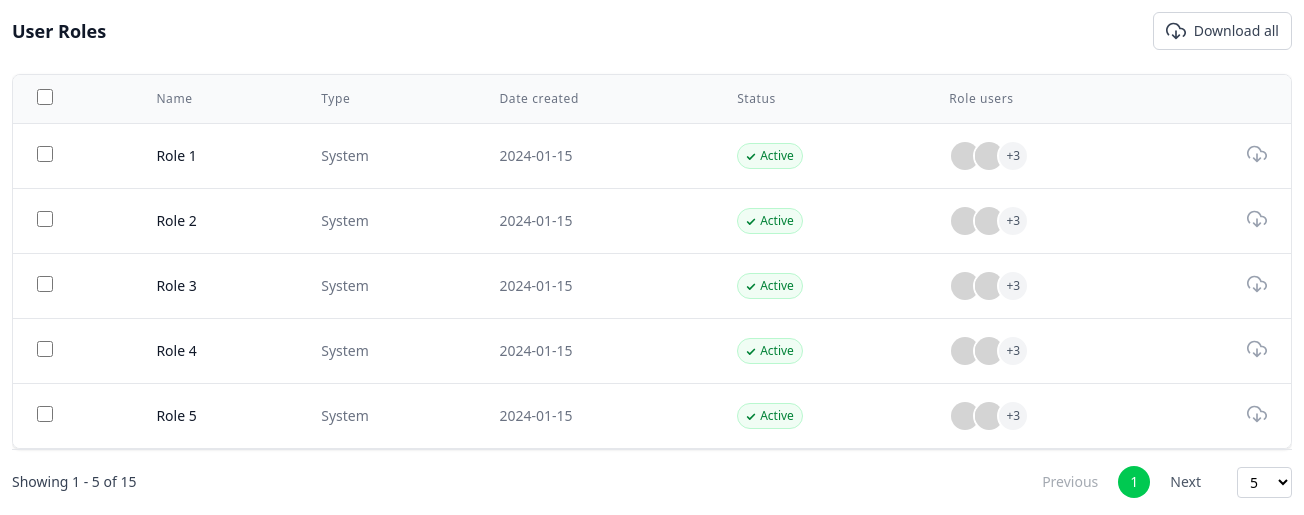
Test: UserRoleTable › Pagination › handles pagination navigation
Expected: the text "Role 1" is shown, [132,124,297,188]
Click the button "Next".
click(1186, 482)  # box [1158,468,1213,496]
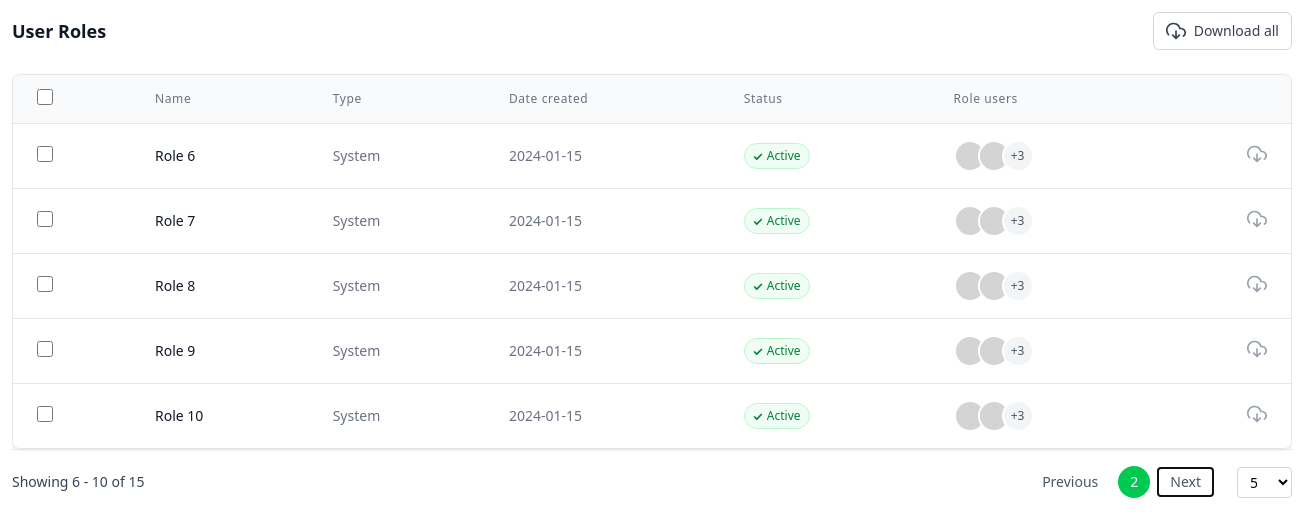
Now the text "Role 6" is shown, box [131,124,309,188]
Click the button "Previous".
click(1070, 482)  # box [1030,468,1110,496]
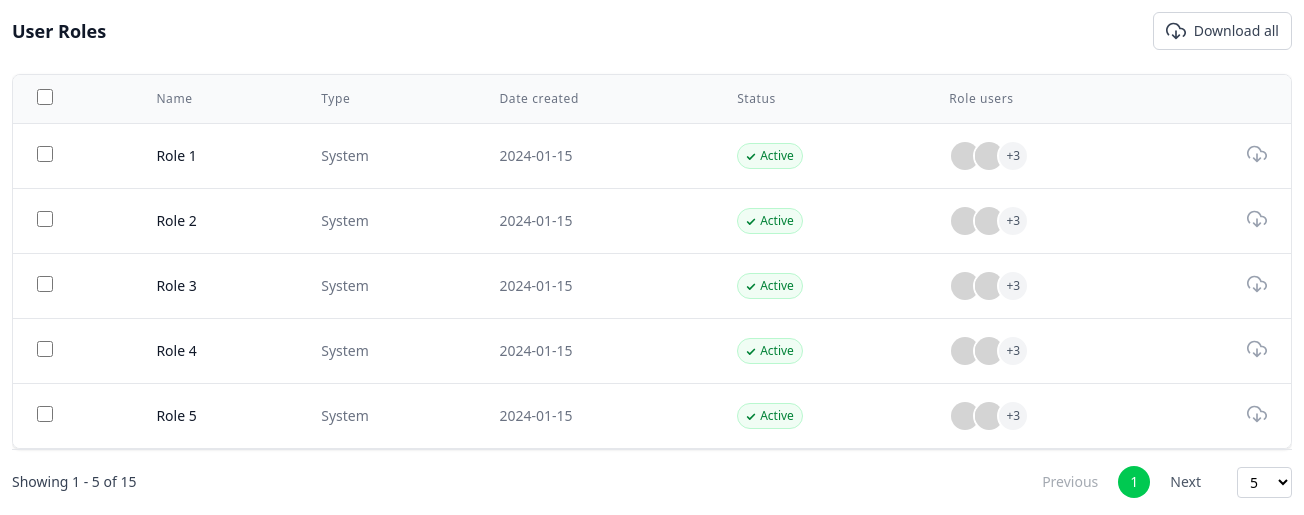
Now the text "Role 1" is shown, box [132,124,297,188]
